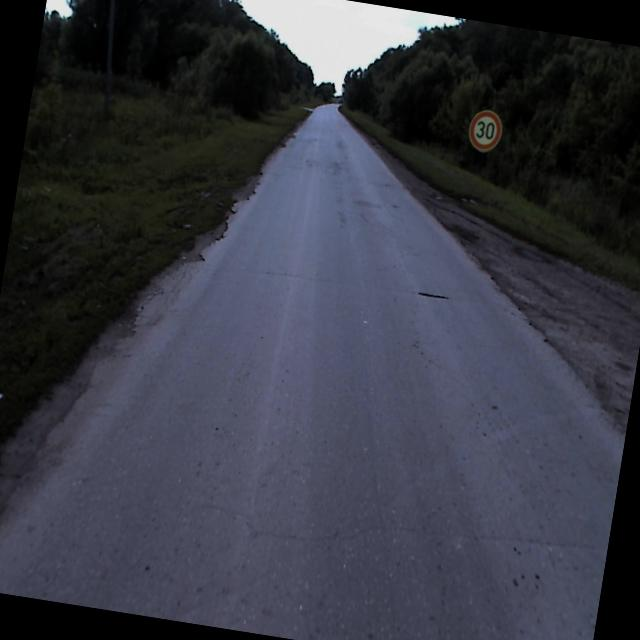road: (0, 115, 625, 640)
